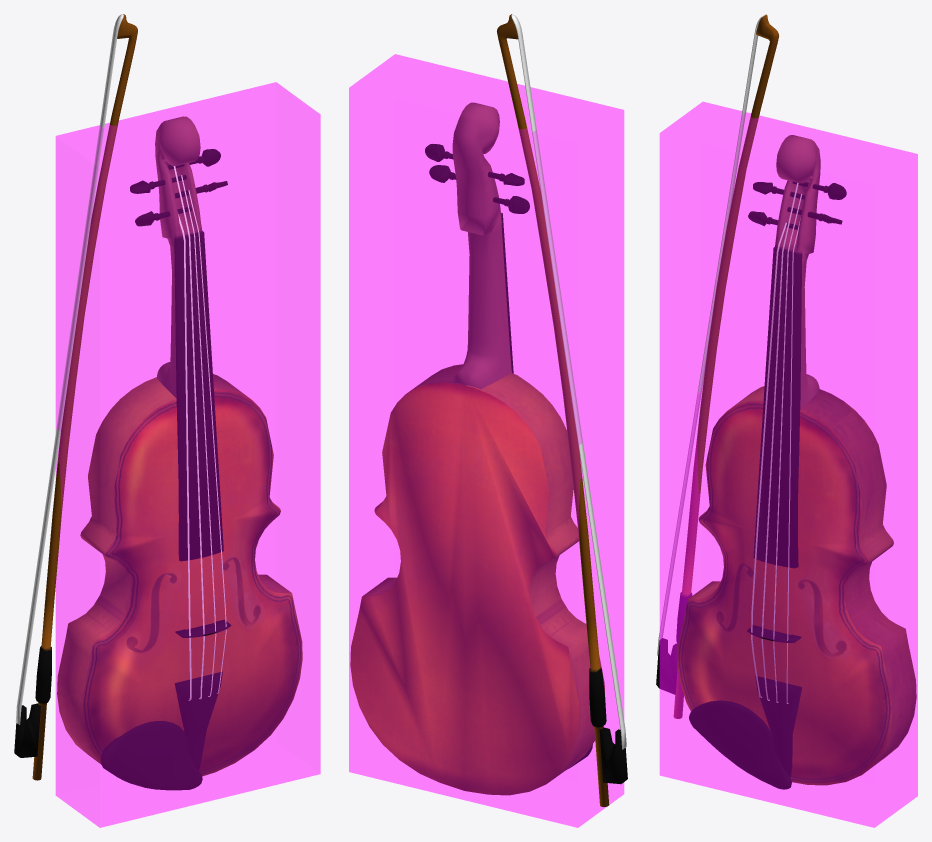
File: violin.fbx
3 views of the same model, side by side, from view 1: azimuth 30°, elevation 25°; view 2: azimuth 150°, elevation 25°; view 3: azimuth 330°, elevation 25° (orthographic). The views are drawn at different scales.
Parts seen in each view (by area): view 1: Violin_boundingBox, Violin; view 2: Violin_boundingBox, Violin; view 3: Violin_boundingBox, Violin.
Part boxes in pixels (bbox=[...]): Violin_boundingBox: bbox=[55, 82, 320, 827]; Violin: bbox=[14, 14, 302, 790]; Violin_boundingBox: bbox=[349, 54, 624, 827]; Violin: bbox=[350, 14, 627, 806]; Violin_boundingBox: bbox=[659, 101, 917, 827]; Violin: bbox=[656, 14, 916, 789].
Bounding box in the file's own units: 40.52 × 112 × 11.83.
2 materials, 1 textured.
